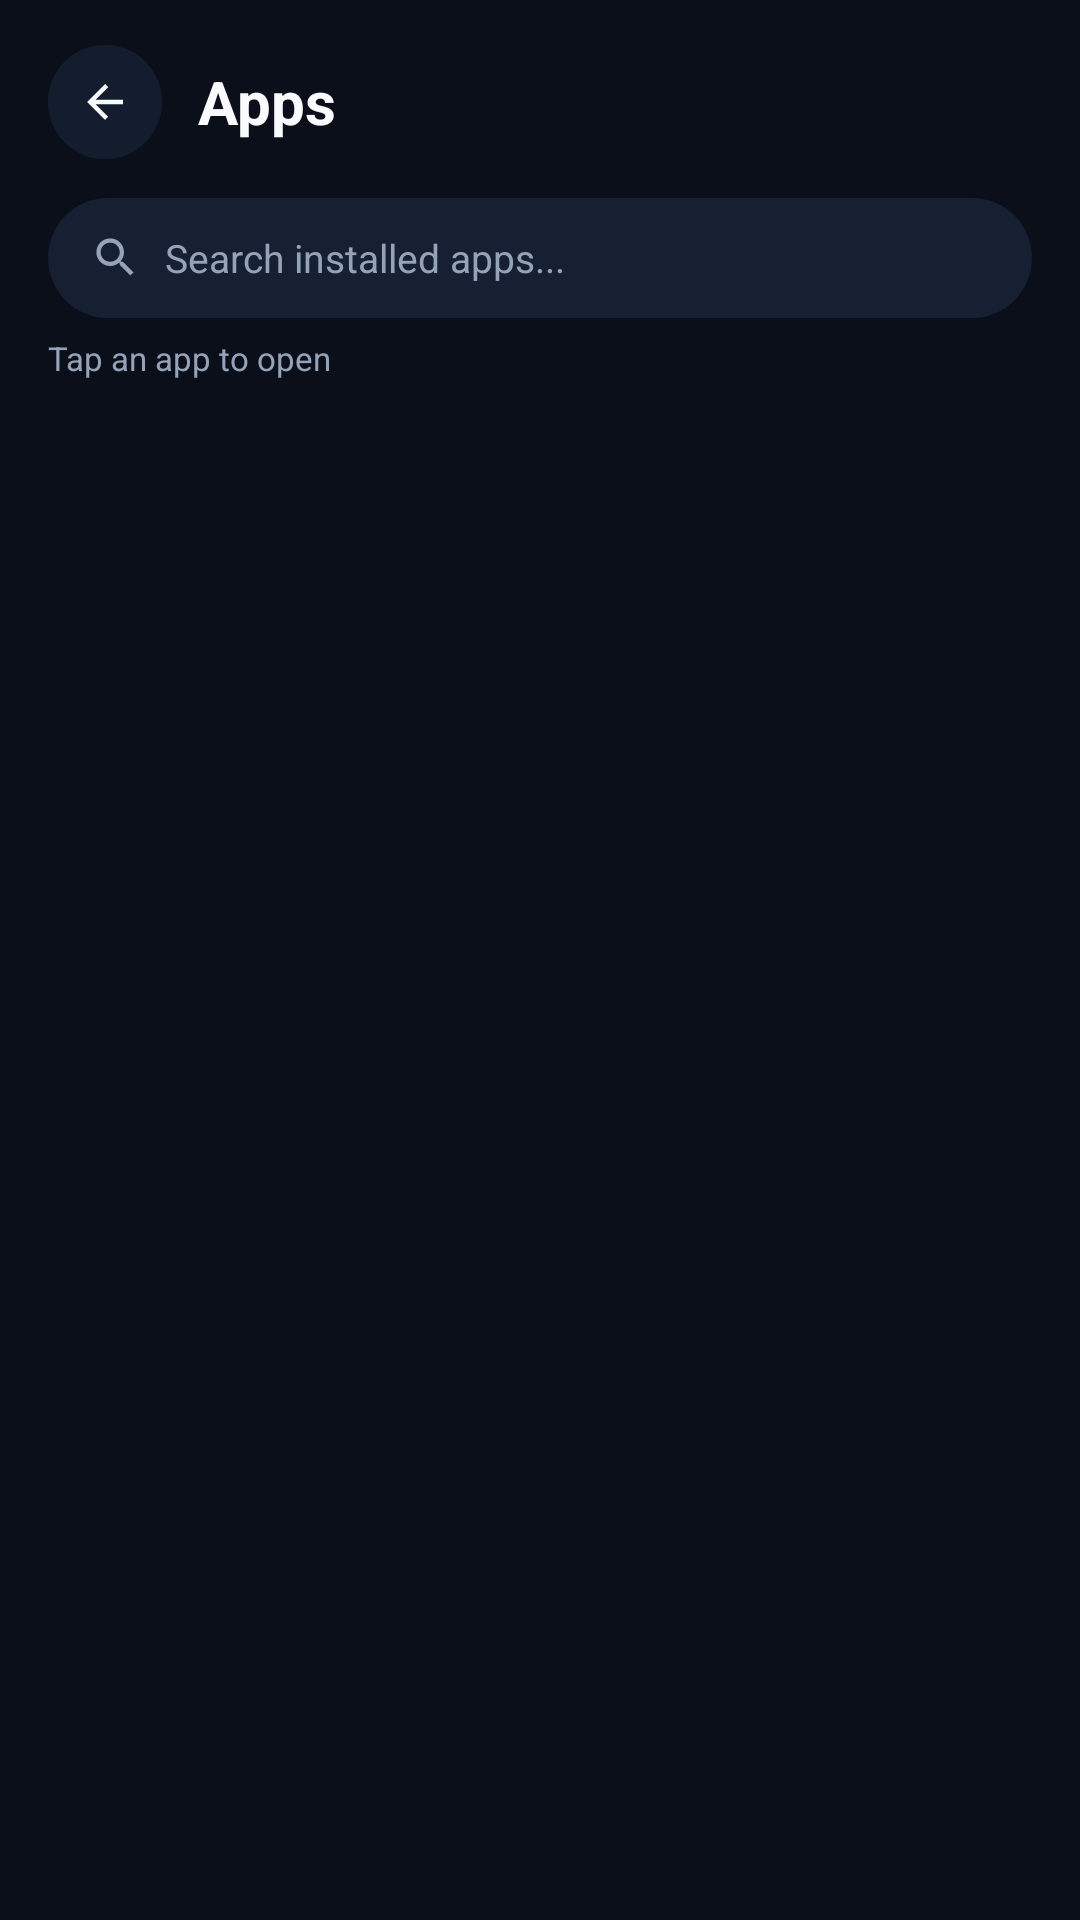

Icon bounding boxes for this 1080×1920 phone screenshot, format bbox=[x1, y1, x2, y2]:
Back to GateFocus: bbox=[48, 45, 162, 159]
